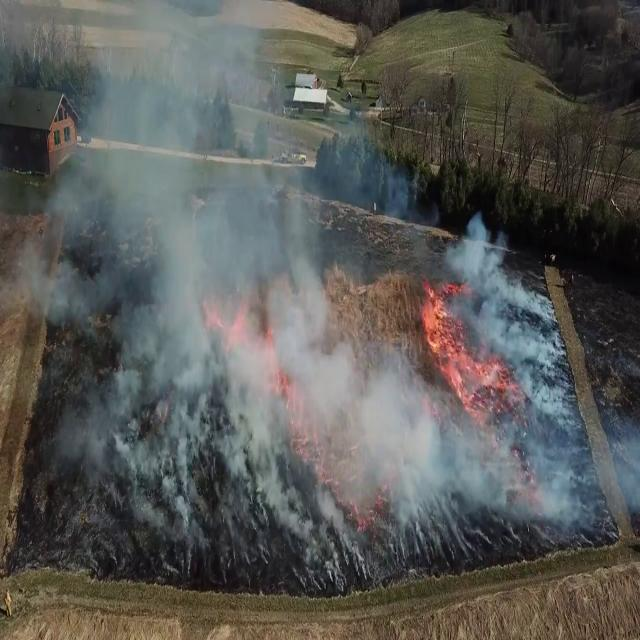Fire: (415, 261, 506, 425)
Smoke: (7, 7, 318, 526), (292, 207, 586, 565)
